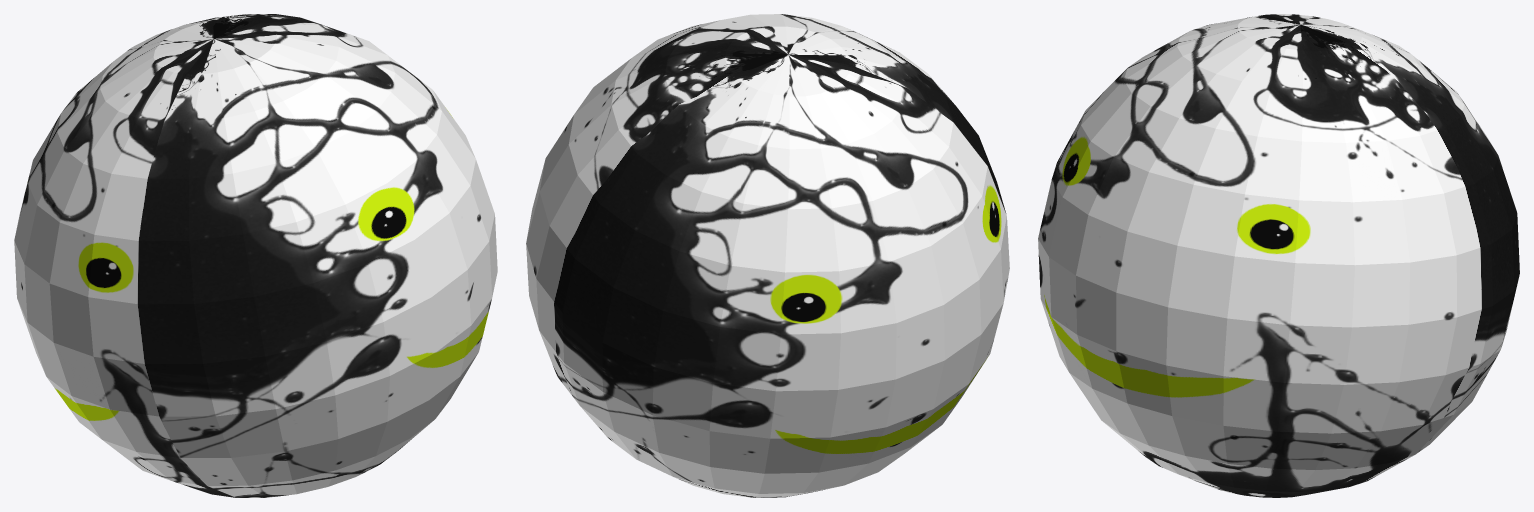
3 views of the same model, side by side, from view 1: azimuth 30°, elevation 25°; view 2: azimuth 150°, elevation 25°; view 3: azimuth 270°, elevation 25° (orthographic).
Parts seen in each view (by area): view 1: Sphere; view 2: Sphere; view 3: Sphere.
Part boxes in pixels (x1=…): Sphere: x1=14, y1=14, x2=497, y2=497; Sphere: x1=526, y1=14, x2=1009, y2=497; Sphere: x1=1038, y1=14, x2=1519, y2=497.
Bounding box in the file's own units: 63.99 × 64.18 × 64.11.
1 material, 1 textured.
